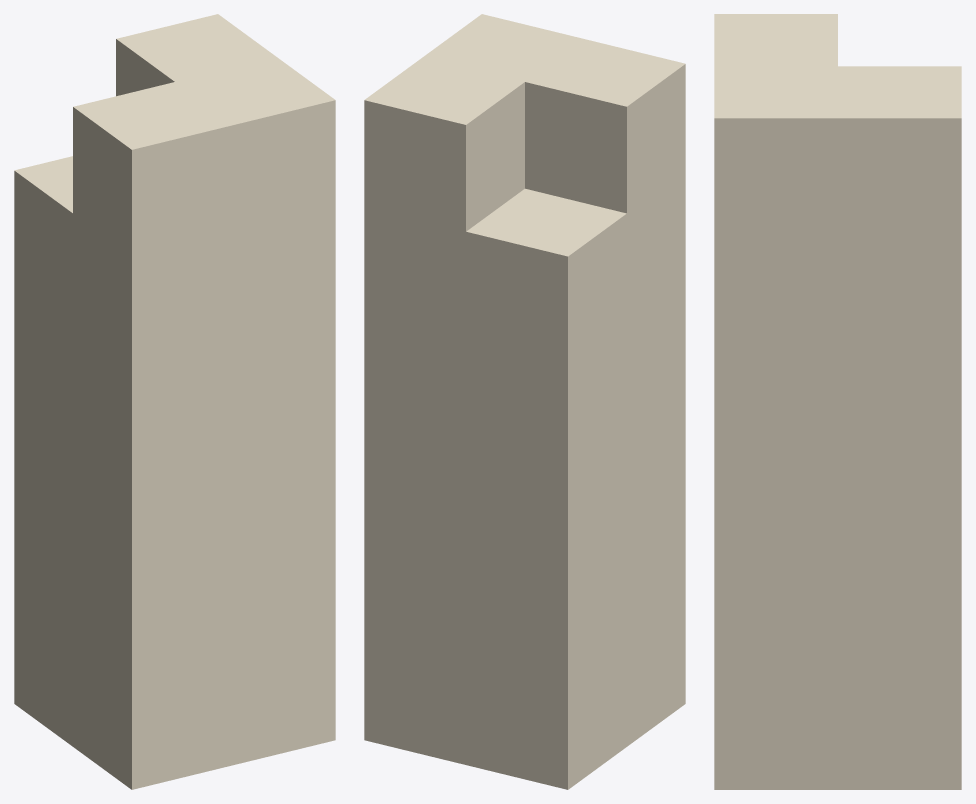
Rendered from arctic_fox__leg_fl.glb.
3 renders of one model, left to right at view 1: azimuth 30°, elevation 25°; view 2: azimuth 150°, elevation 25°; view 3: azimuth 270°, elevation 25°, orthographic. The views are drawn at different scales.
Parts seen in each view (by area): view 1: arctic_fox__leg_fl; view 2: arctic_fox__leg_fl; view 3: arctic_fox__leg_fl.
Part boxes in pixels (x1,y1,x2,y2): arctic_fox__leg_fl: (14,14,335,789); arctic_fox__leg_fl: (364,14,685,789); arctic_fox__leg_fl: (714,14,961,789).
Bounding box in the file's own units: 0.2 × 0.6 × 0.2.
Materials: 1 (1 with a texture image).
